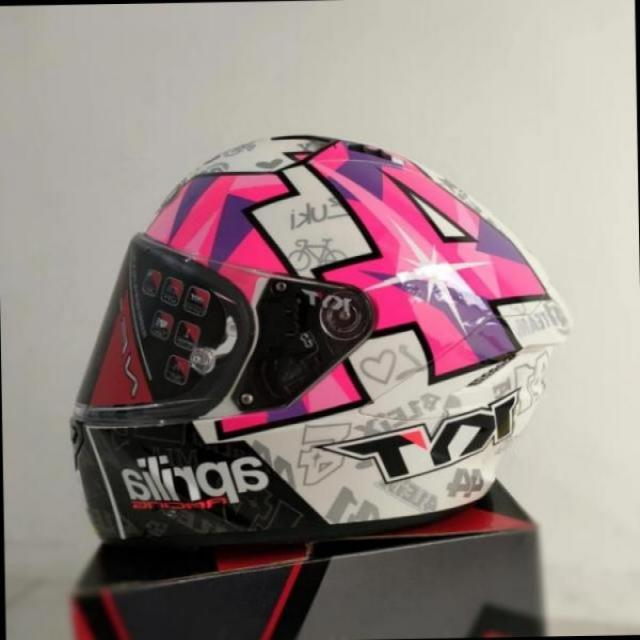Helmet: (81, 146, 565, 554)
